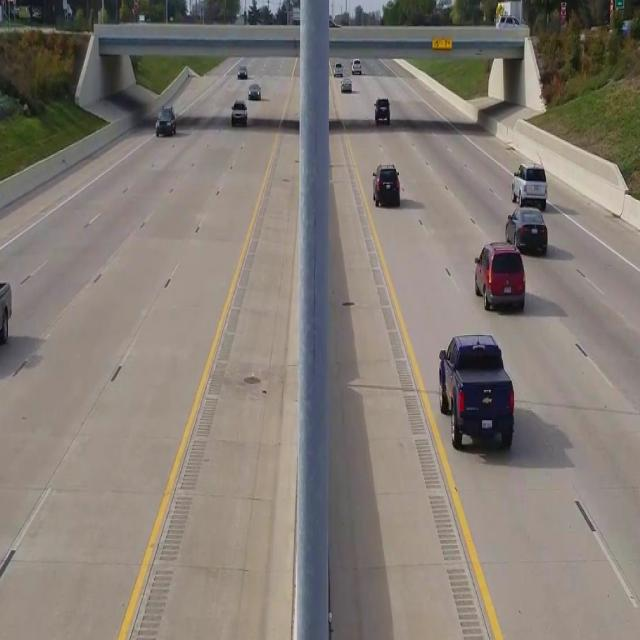car: (473, 240, 525, 311), (505, 205, 548, 255), (372, 162, 400, 206), (0, 268, 11, 373), (155, 104, 175, 136), (374, 96, 390, 124), (231, 100, 247, 125), (247, 82, 260, 99)
